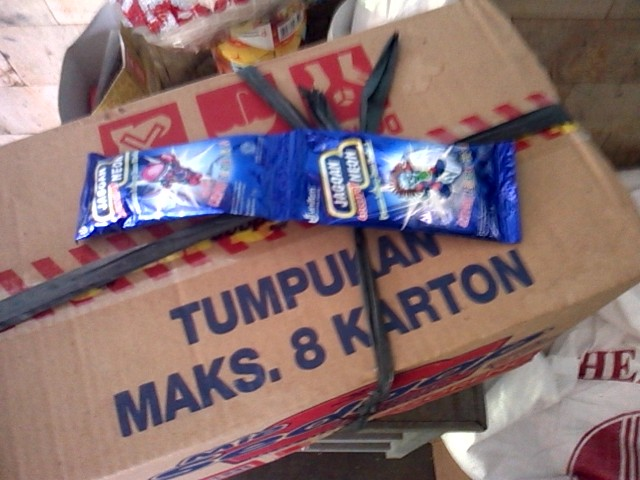jagoan neon: (286, 128, 521, 244), (74, 131, 285, 241)
